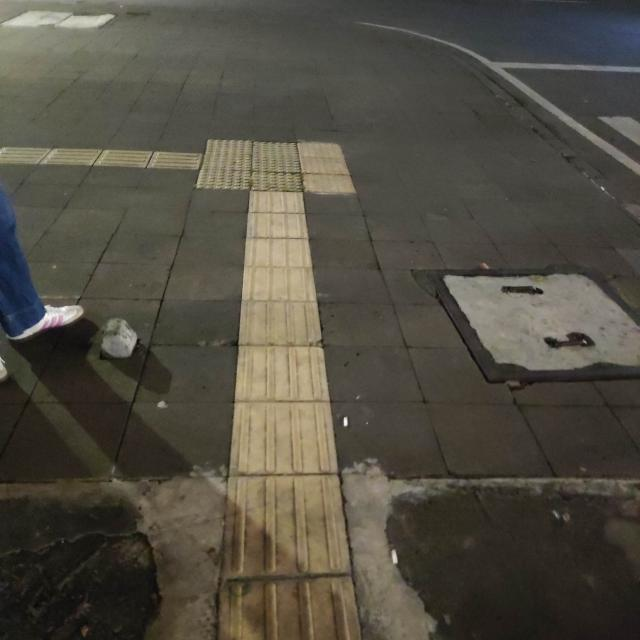kiri: (103, 113, 328, 244)
